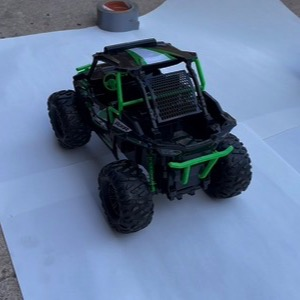polaris: (48, 38, 254, 235)
